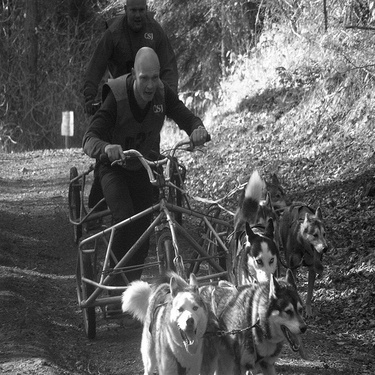dog: (153, 271, 310, 373), (211, 160, 280, 286), (120, 279, 209, 373), (272, 195, 329, 317), (225, 169, 291, 237)
